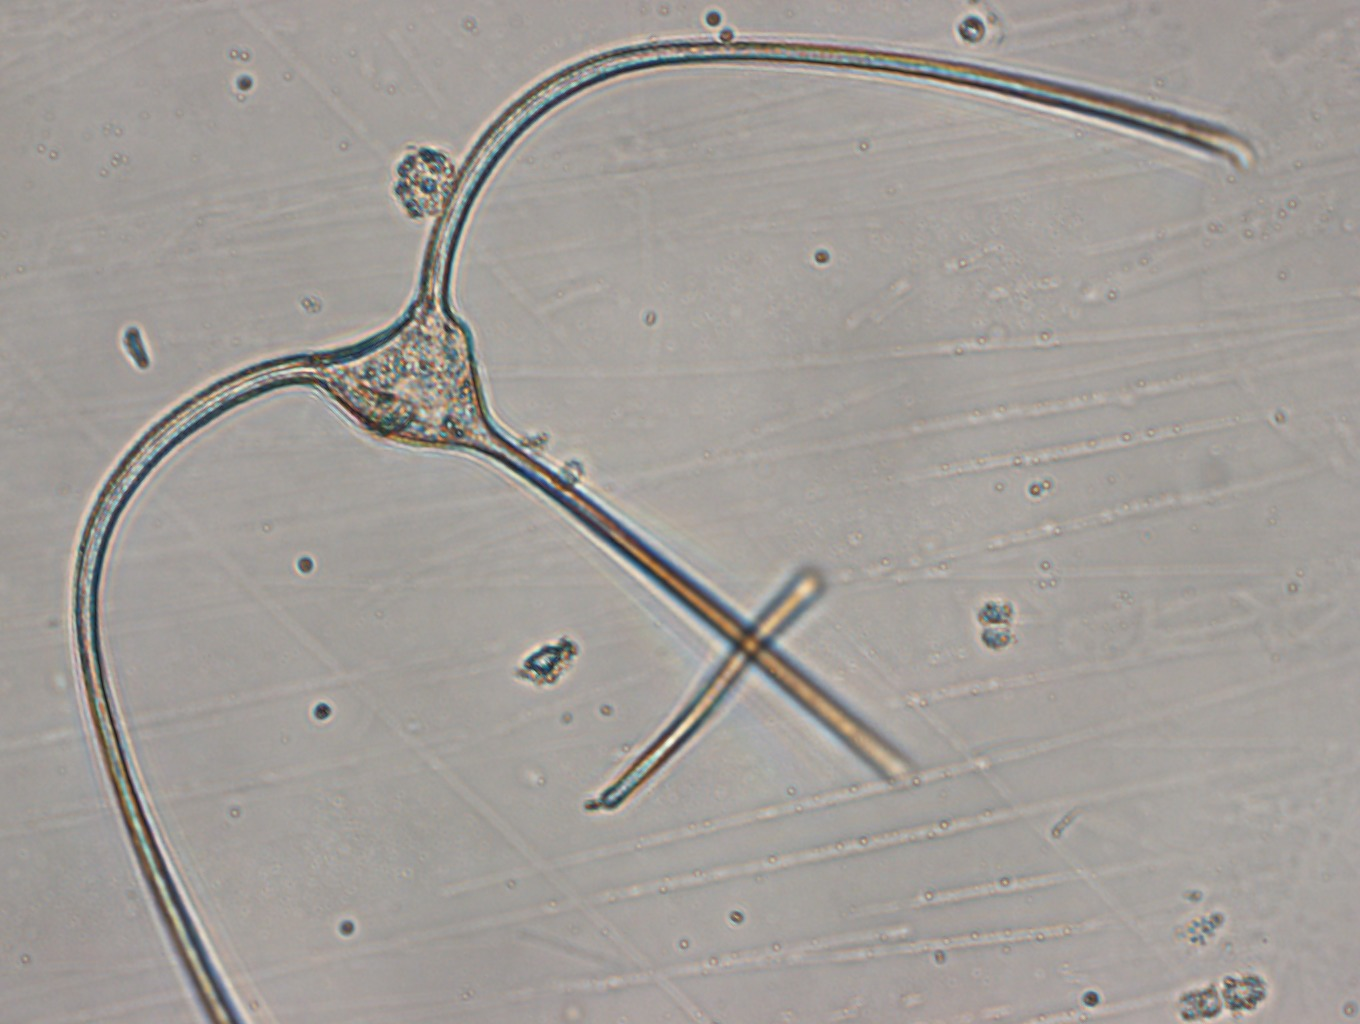ceratium trichoceros: (67, 24, 1254, 1020)
